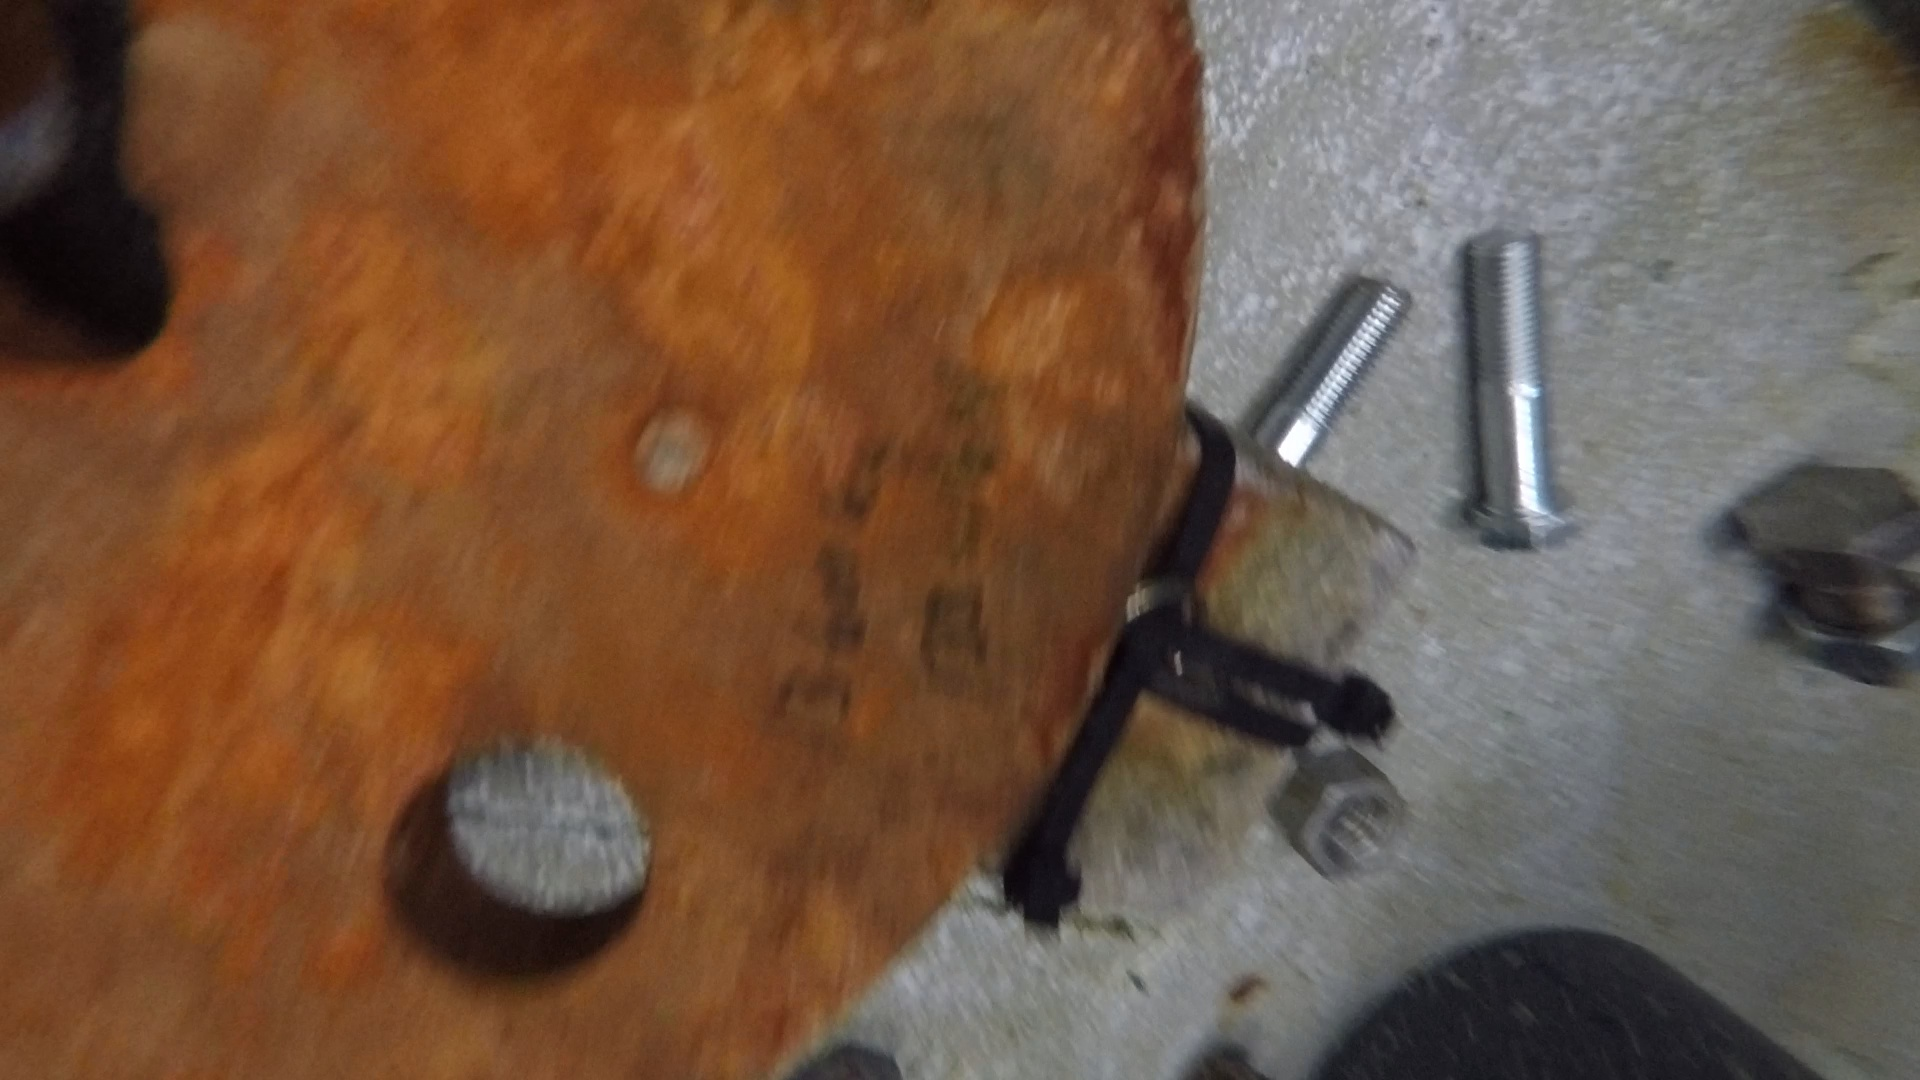bolt: (1737, 463, 1919, 696), (1458, 228, 1584, 554), (1251, 276, 1407, 468)
flange: (1, 1, 1212, 1079)
led_block: (984, 400, 1416, 938)
nut: (1276, 746, 1407, 884), (1778, 582, 1920, 678)
pipe: (1305, 931, 1824, 1080)
